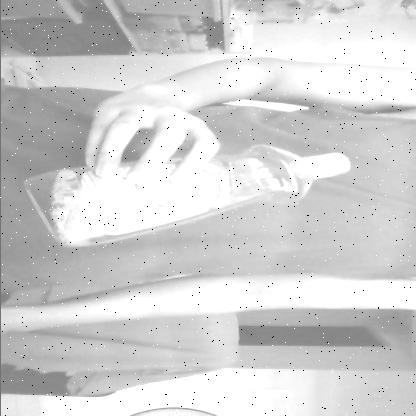Plastic Bottle: (19, 142, 359, 250)
